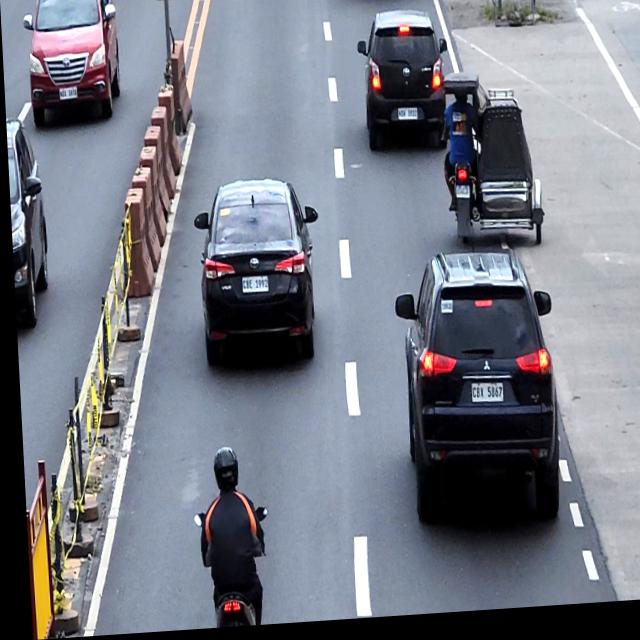Car: (389, 250, 558, 535), (190, 178, 321, 370), (355, 12, 451, 157), (22, 0, 121, 127), (5, 115, 48, 329)
License-Plate: (466, 387, 500, 411), (238, 278, 267, 297), (395, 111, 417, 128), (57, 87, 78, 102), (452, 189, 469, 206)
Motorcycle: (188, 508, 267, 630)
Tricycle: (437, 74, 543, 257)
